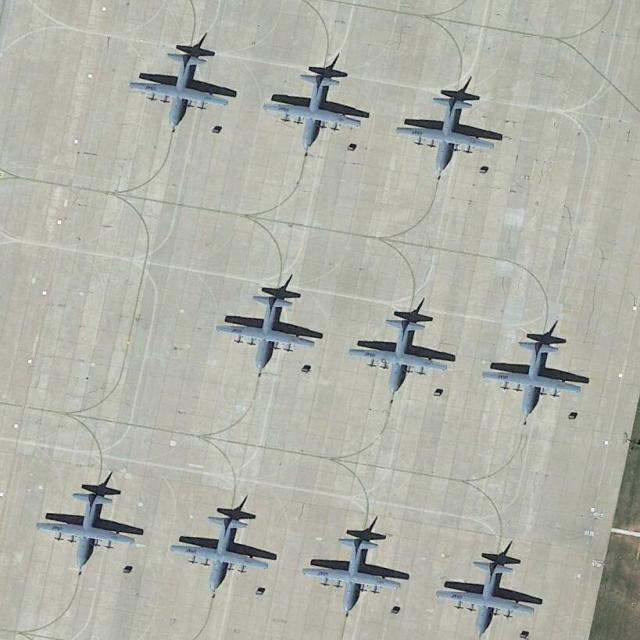fighter jet: (265, 51, 366, 151), (352, 305, 457, 400), (394, 83, 498, 173), (127, 39, 231, 128), (300, 527, 405, 615), (487, 328, 588, 418), (211, 288, 320, 368), (166, 510, 275, 590), (35, 484, 141, 566), (440, 553, 538, 639)
